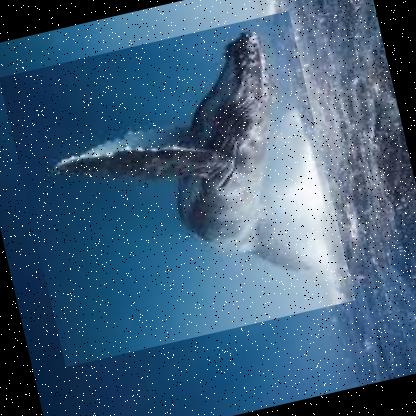blue_whale: (0, 11, 355, 369)
